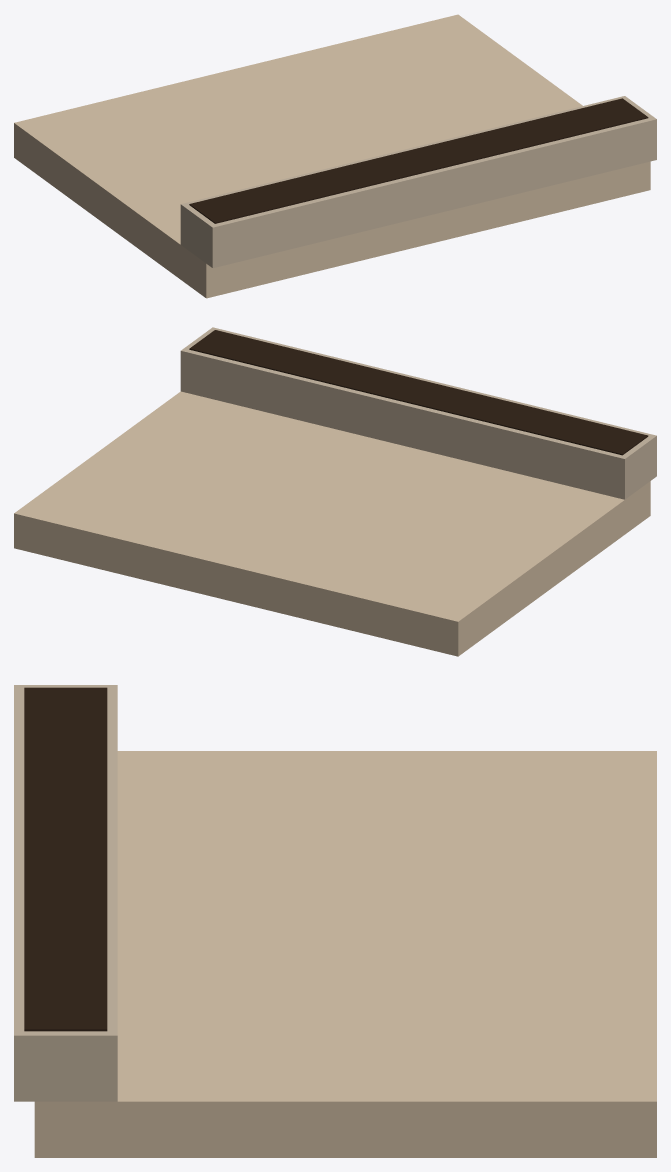
The model's file is city_walk_roof.glb.
The picture shows the model from 3 angles, top to bottom: view 1: azimuth 30°, elevation 25°; view 2: azimuth 150°, elevation 25°; view 3: azimuth 270°, elevation 25°; orthographic projection. The views are drawn at different scales.
Visible parts, largest first — view 1: CityWalkRoof_Slab, CityWalkRoof_Lip, CityWalkRoof_LipSoil; view 2: CityWalkRoof_Slab, CityWalkRoof_Lip, CityWalkRoof_LipSoil; view 3: CityWalkRoof_Slab, CityWalkRoof_LipSoil, CityWalkRoof_Lip.
Boxes of the visible parts, <box> form: CityWalkRoof_Slab: <box>14,14,650,298</box>; CityWalkRoof_Lip: <box>180,96,656,268</box>; CityWalkRoof_LipSoil: <box>189,98,648,223</box>; CityWalkRoof_Slab: <box>14,391,650,656</box>; CityWalkRoof_Lip: <box>180,327,656,499</box>; CityWalkRoof_LipSoil: <box>189,330,648,455</box>; CityWalkRoof_Slab: <box>34,751,656,1157</box>; CityWalkRoof_LipSoil: <box>24,687,107,1031</box>; CityWalkRoof_Lip: <box>14,685,117,1101</box>.
Size of the model in its own units: 4 by 0.66 by 3.1.
